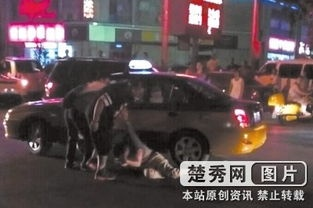falling: (116, 138, 183, 184)
